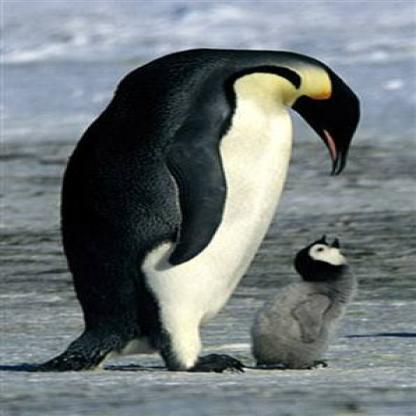Penguin: (9, 38, 365, 381), (228, 231, 376, 381)
